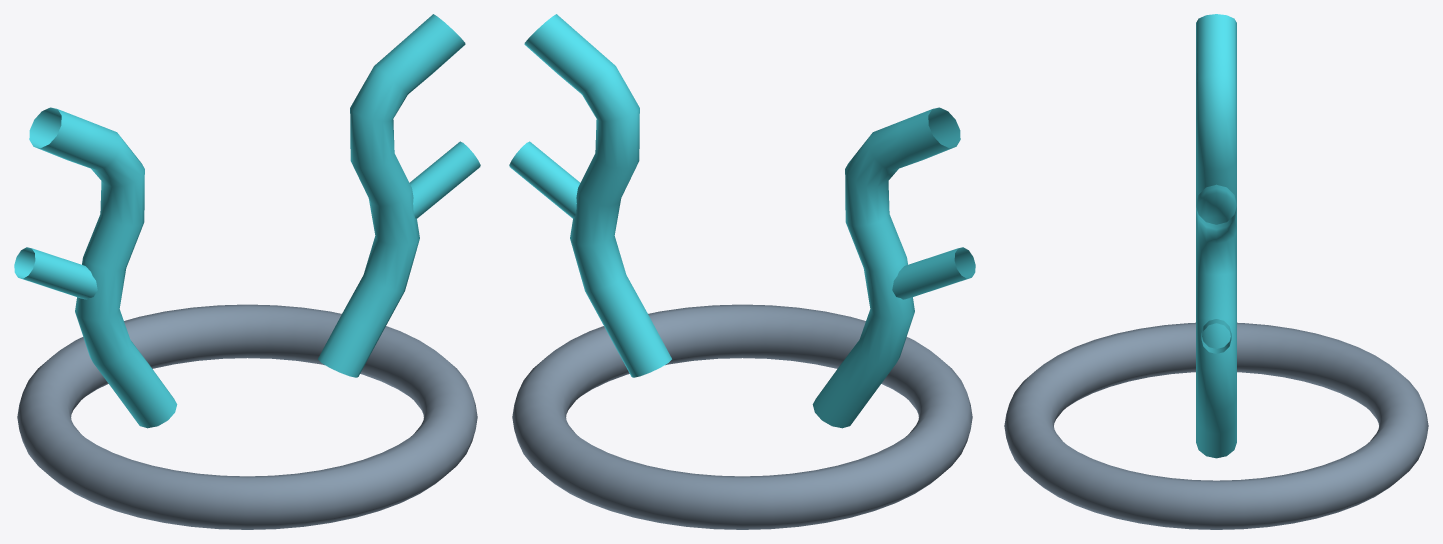
Rendered from crown_v6.glb.
3 views of the same model, side by side, from view 1: azimuth 30°, elevation 25°; view 2: azimuth 150°, elevation 25°; view 3: azimuth 270°, elevation 25° (orthographic). The views are drawn at different scales.
Parts seen in each view (by area): view 1: ANTLER_DIADEM_PRIMARY, DIADEM_ANTLER_ACCENT.001, DIADEM_ANTLER_ACCENT, ANTLER_TINE_ACCENT, ANTLER_TINE_ACCENT.001; view 2: ANTLER_DIADEM_PRIMARY, DIADEM_ANTLER_ACCENT.001, DIADEM_ANTLER_ACCENT, ANTLER_TINE_ACCENT, ANTLER_TINE_ACCENT.001; view 3: ANTLER_DIADEM_PRIMARY, DIADEM_ANTLER_ACCENT.001, DIADEM_ANTLER_ACCENT.
Part boxes in pixels (x1,y1,x2,y2): ANTLER_DIADEM_PRIMARY: (17,304,477,529); DIADEM_ANTLER_ACCENT.001: (318,14,465,377); DIADEM_ANTLER_ACCENT: (29,107,177,428); ANTLER_TINE_ACCENT: (14,247,97,299); ANTLER_TINE_ACCENT.001: (409,141,480,218); ANTLER_DIADEM_PRIMARY: (512,304,972,529); DIADEM_ANTLER_ACCENT.001: (524,14,671,377); DIADEM_ANTLER_ACCENT: (812,107,960,428); ANTLER_TINE_ACCENT: (892,247,975,299); ANTLER_TINE_ACCENT.001: (509,141,580,218); ANTLER_DIADEM_PRIMARY: (1004,322,1428,529); DIADEM_ANTLER_ACCENT.001: (1196,184,1236,458); DIADEM_ANTLER_ACCENT: (1196,14,1236,203).
Size of the model in its own units: 1.77 by 1.4 by 1.54.
